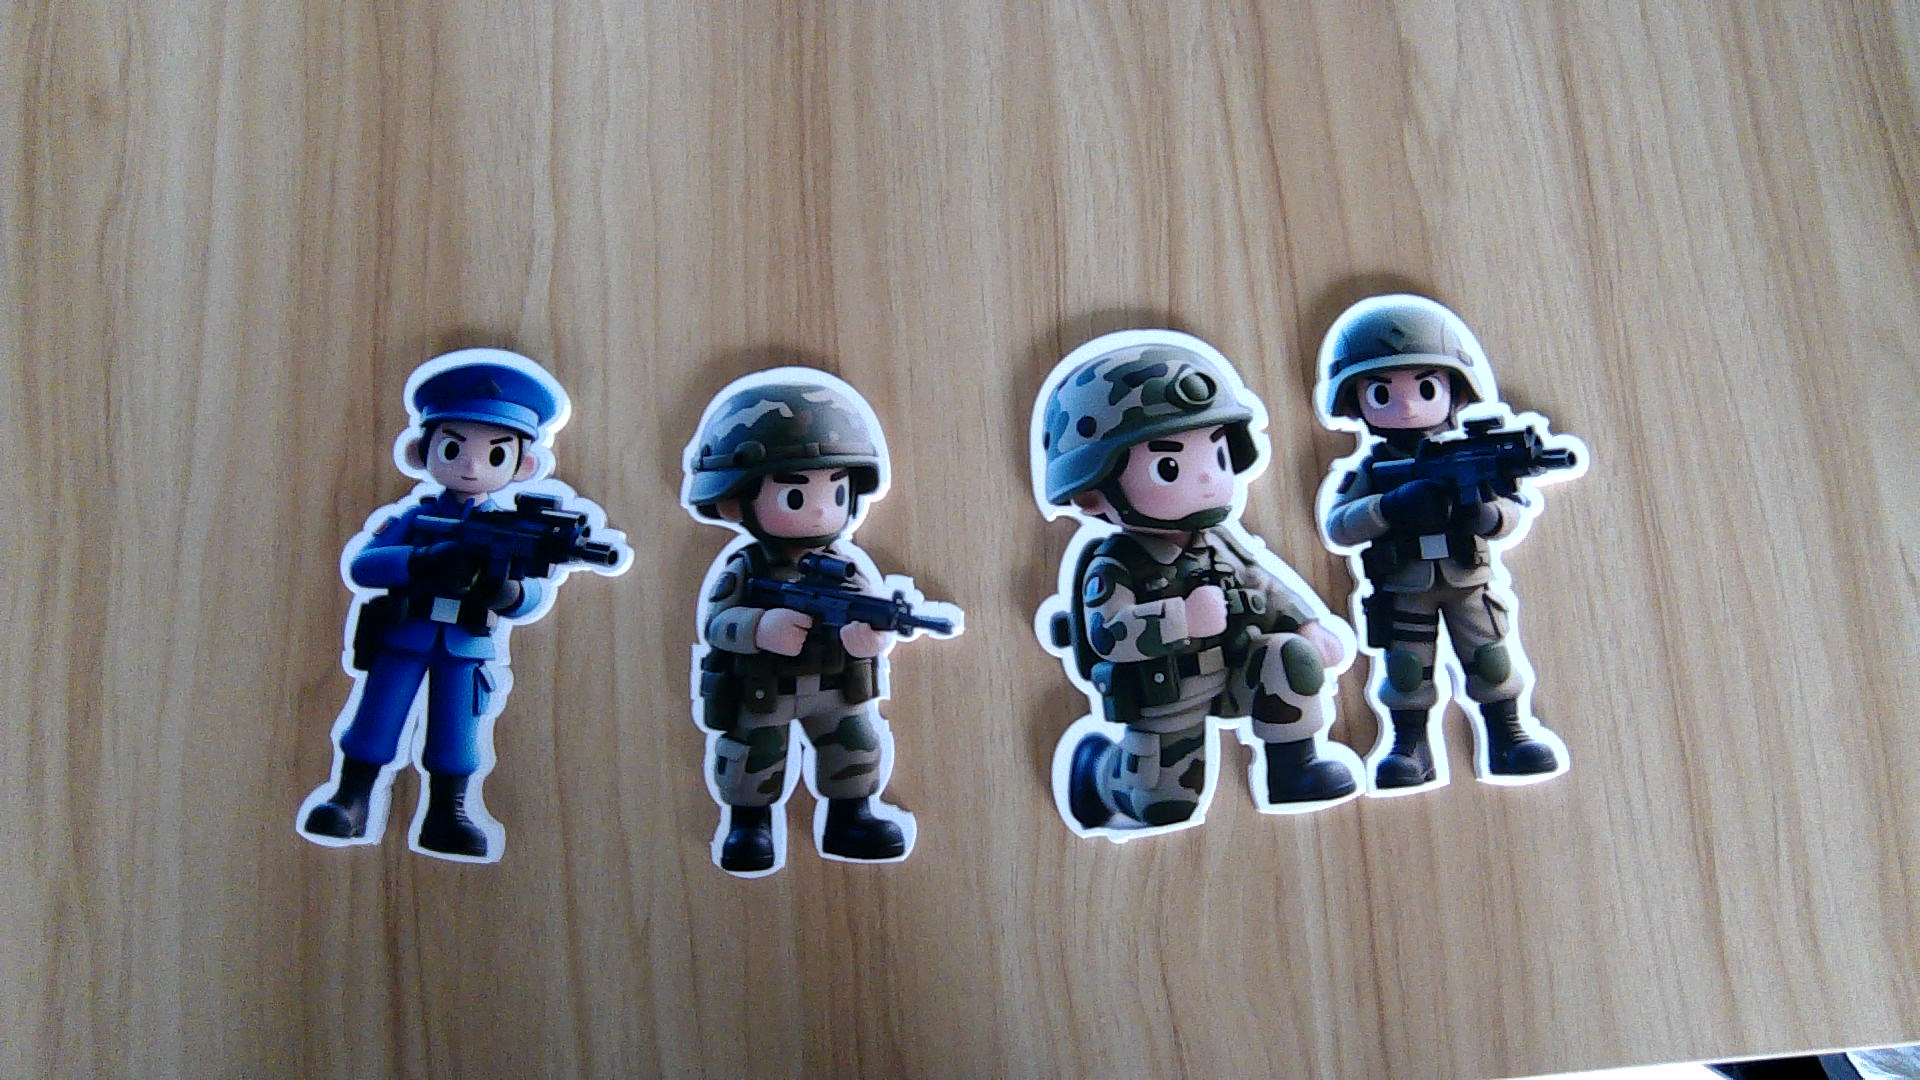友军: (1025, 525, 1361, 843), (1319, 435, 1592, 804), (686, 546, 968, 882)
敌人2: (289, 491, 636, 866)
